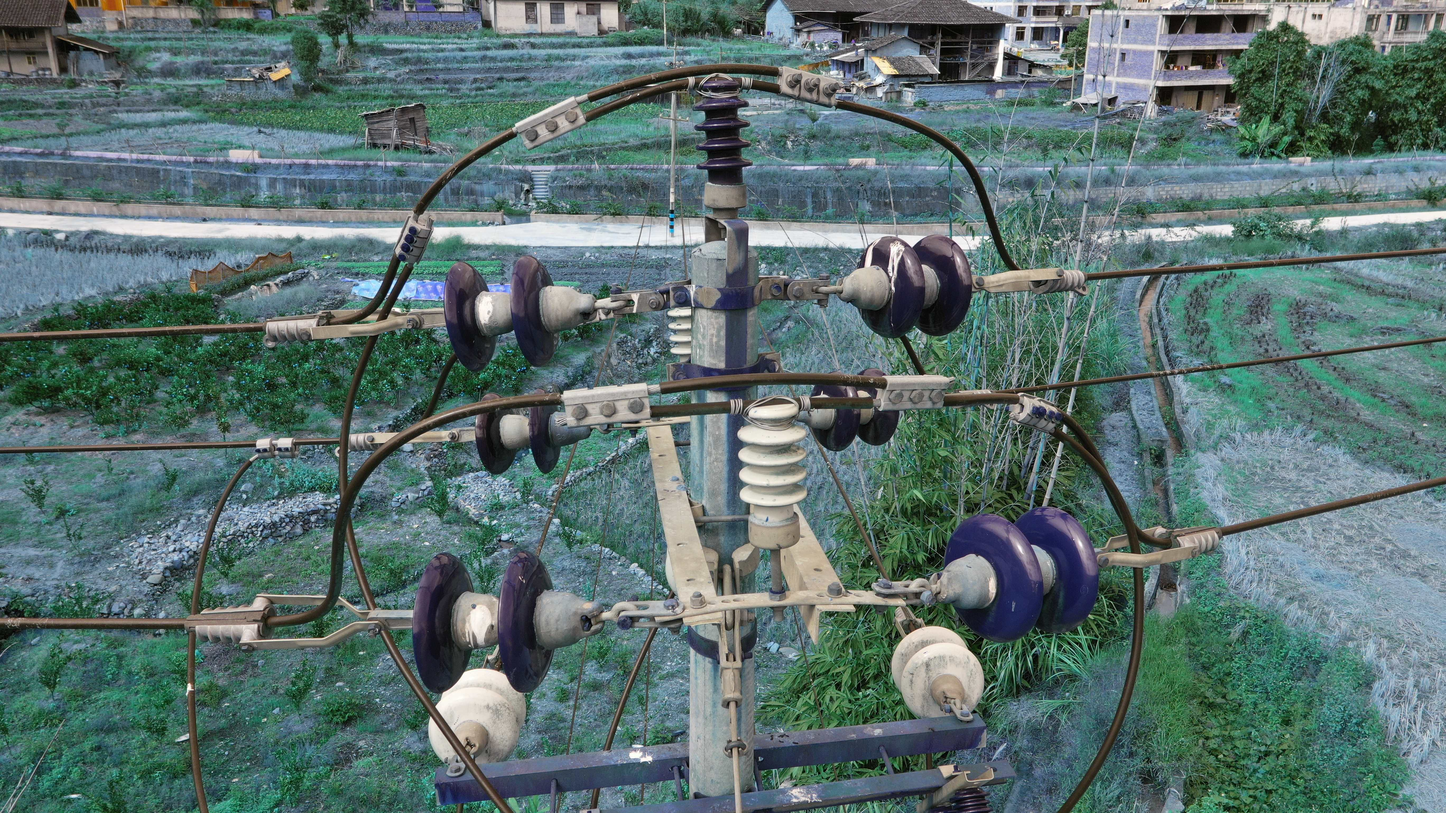severe_soiling_no_discharge_whole: (929, 503, 1105, 646), (836, 226, 980, 342), (733, 397, 817, 549), (792, 363, 904, 452), (428, 665, 529, 763), (888, 622, 987, 719)
